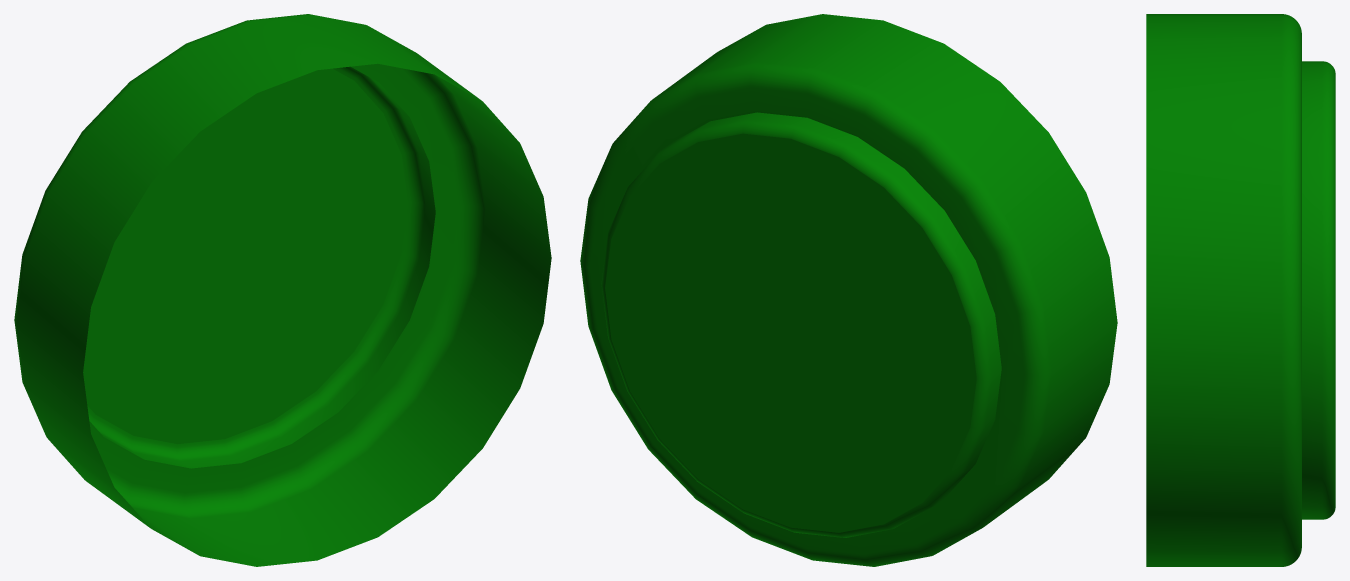
3 renders of one model, left to right at view 1: azimuth 30°, elevation 25°; view 2: azimuth 150°, elevation 25°; view 3: azimuth 270°, elevation 25°, orthographic. The views are drawn at different scales.
Bounding box in the file's own units: 0.5184 × 0.5184 × 0.177.
